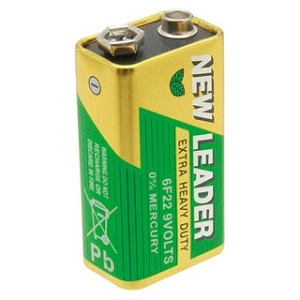9V: (64, 8, 228, 293)
